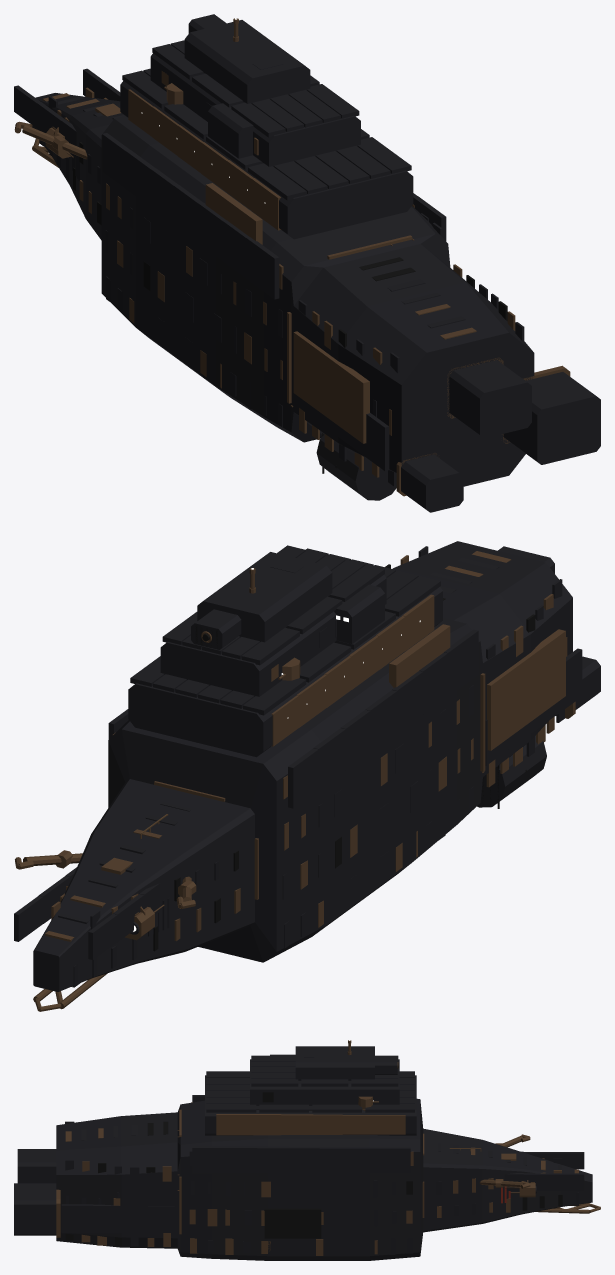
3 views of the same model, one above another, from view 1: azimuth 30°, elevation 25°; view 2: azimuth 150°, elevation 25°; view 3: azimuth 270°, elevation 25° (orthographic). The views are drawn at different scales.
Parts seen in each view (by area): view 1: RIMWARD_HULL; view 2: RIMWARD_HULL; view 3: RIMWARD_HULL.
Part boxes in pixels (x1,y1,x2,y2): RIMWARD_HULL: (14, 14, 600, 512); RIMWARD_HULL: (14, 541, 600, 1011); RIMWARD_HULL: (14, 1040, 600, 1260).
Bounding box in the file's own units: 7.78 × 12.86 × 33.28.
